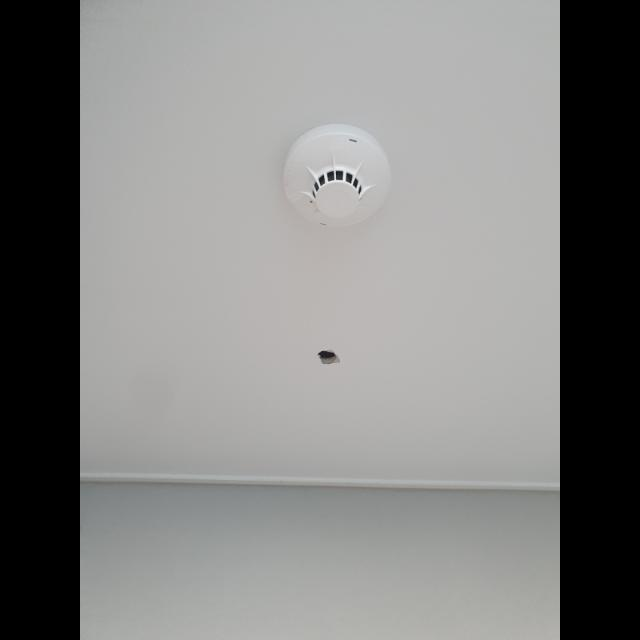Smoke-Detector: (286, 124, 390, 232)
